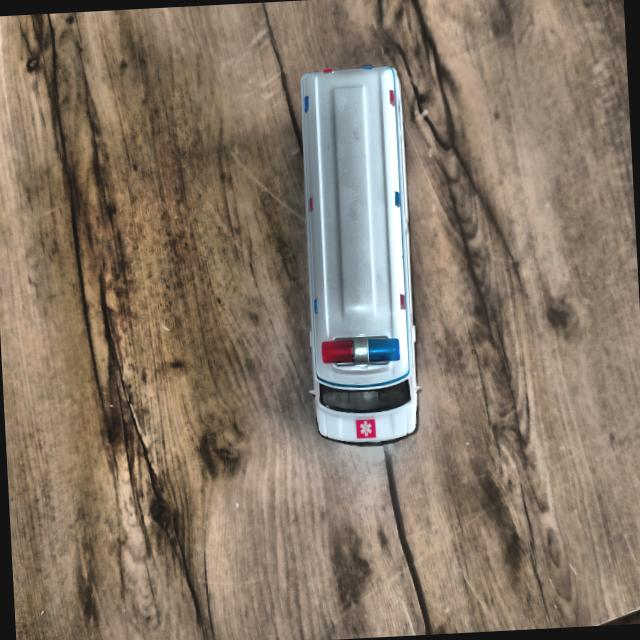Ambulance: (295, 64, 422, 447)
